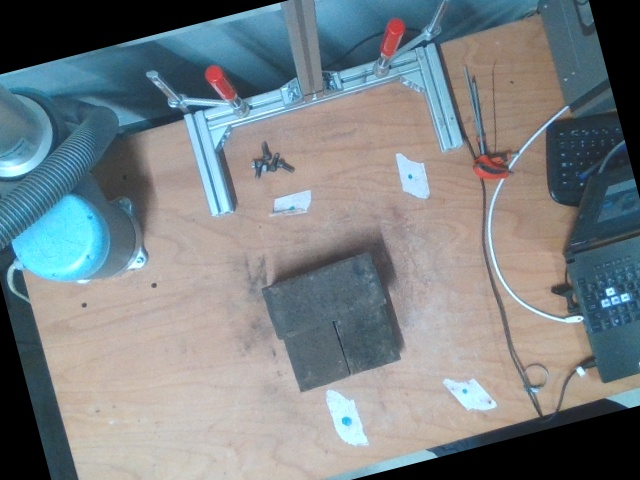brick: (262, 254, 383, 337)
